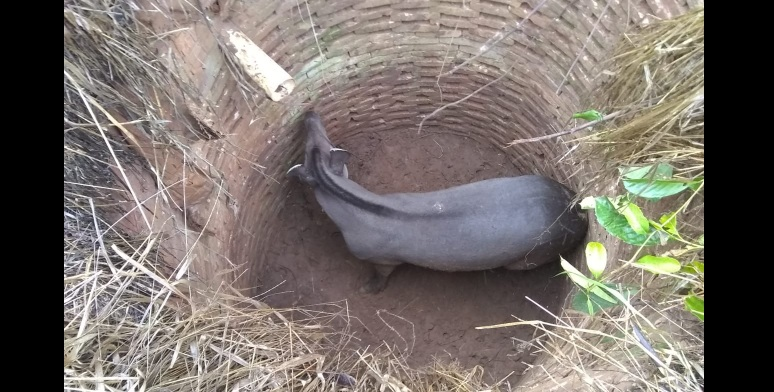Anta: (282, 102, 591, 302)
